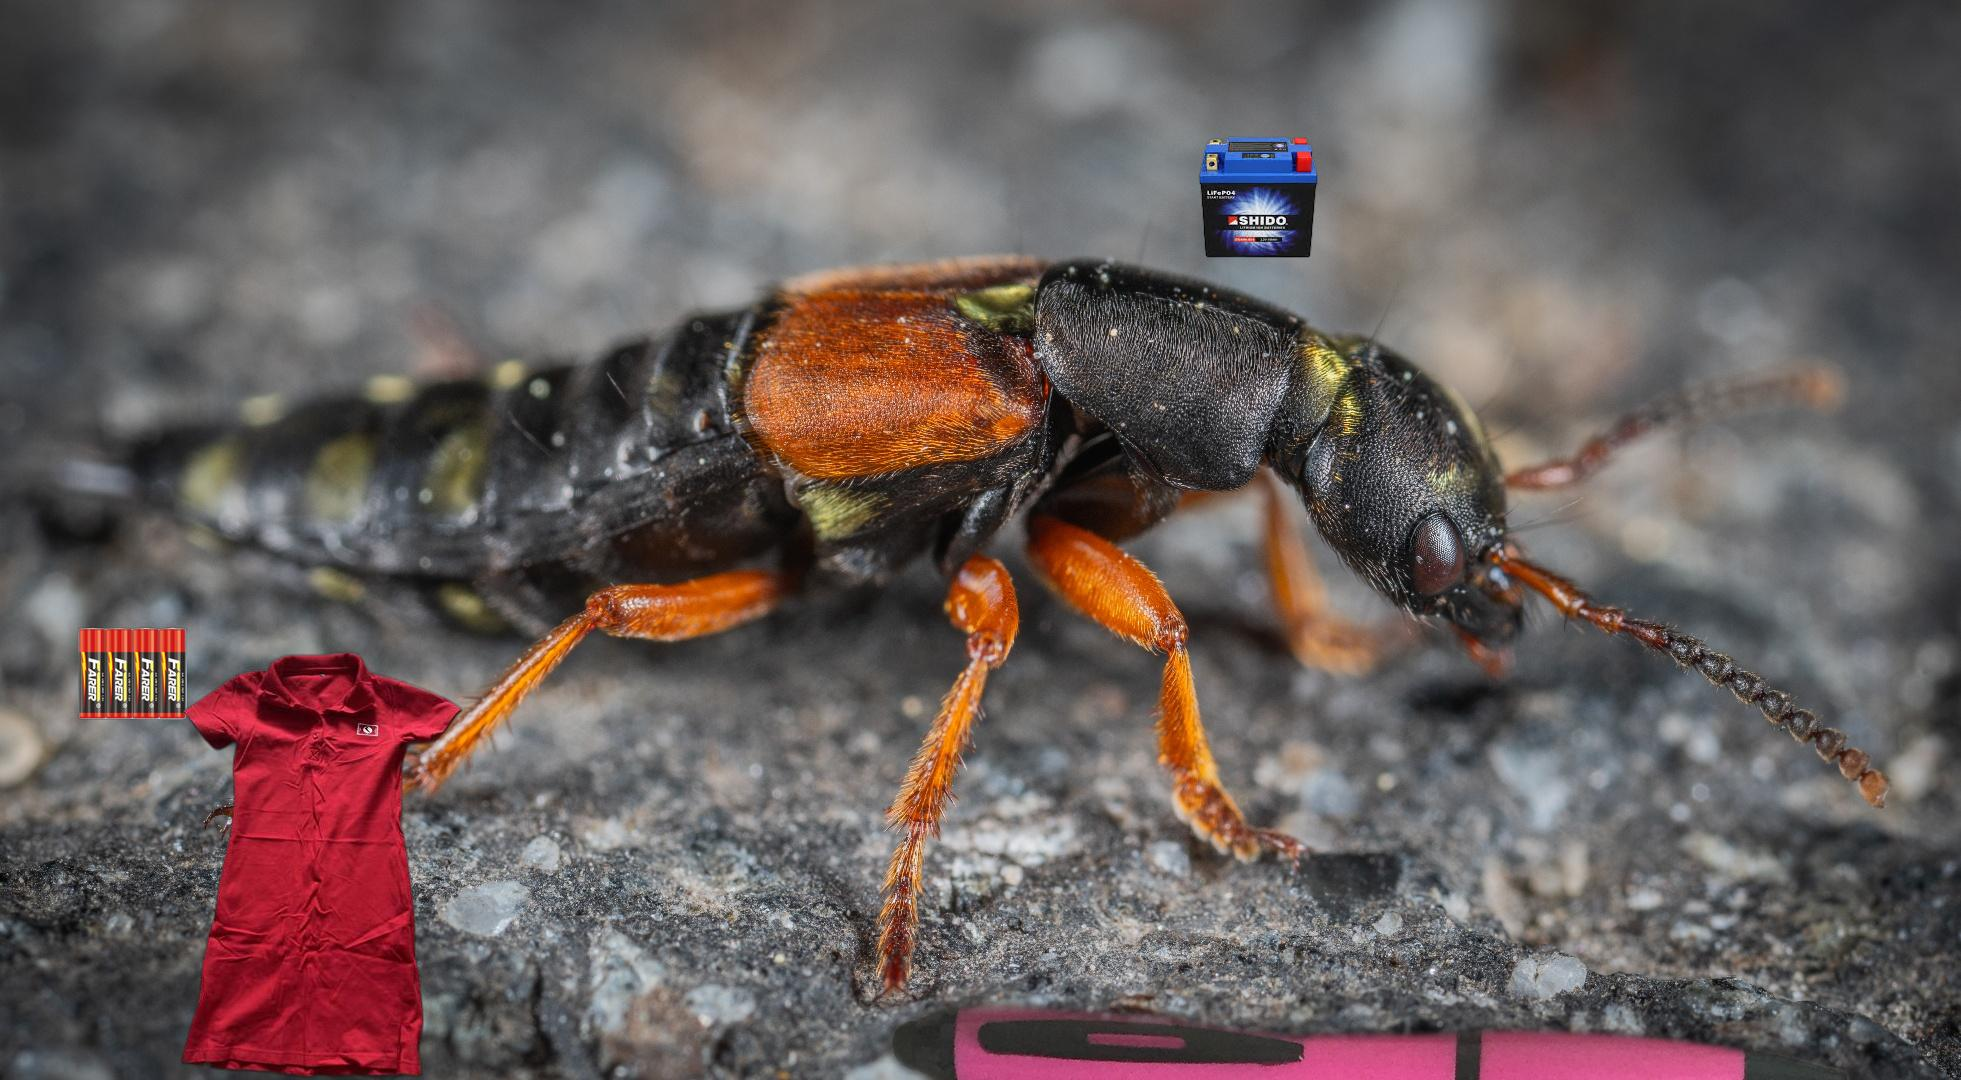battery: (62, 601, 190, 724), (1197, 134, 1320, 259)
clothes: (178, 648, 465, 1080)
penholder: (798, 983, 1871, 1080)
